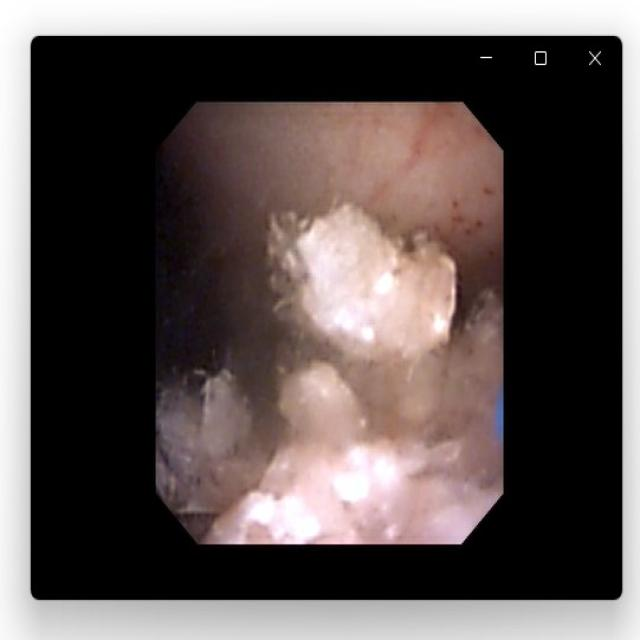stone: (162, 301, 497, 538), (276, 212, 451, 361)
